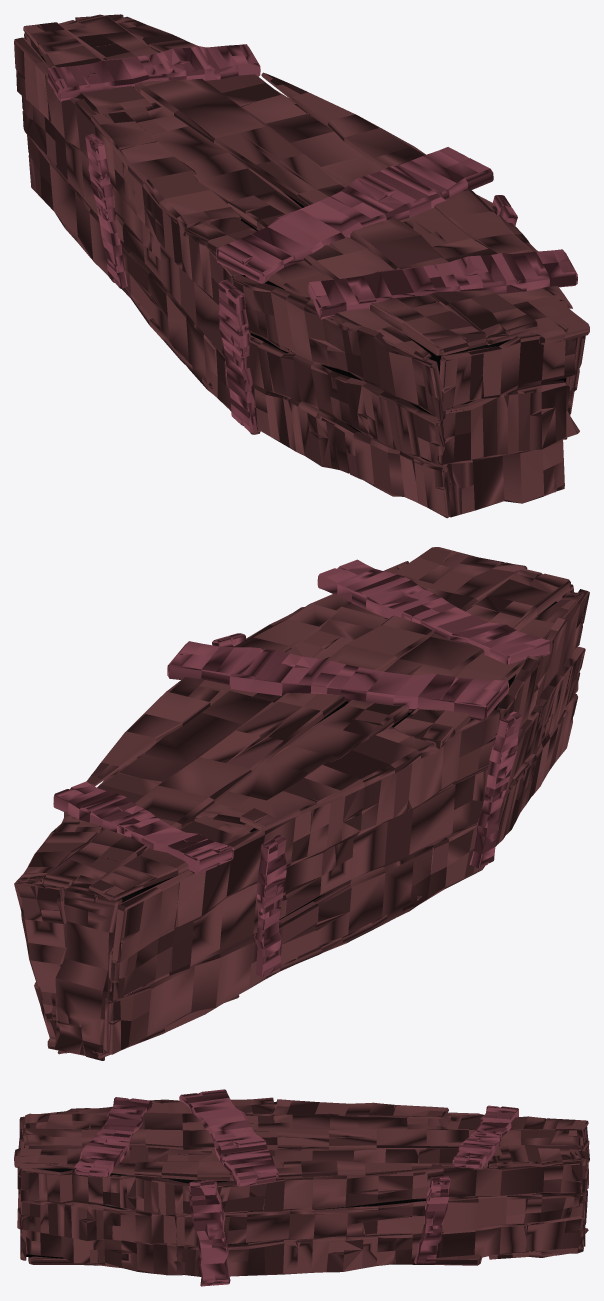
The model's file is CoffinAsset.fbx.
The picture shows the model from 3 angles, top to bottom: view 1: azimuth 30°, elevation 25°; view 2: azimuth 150°, elevation 25°; view 3: azimuth 270°, elevation 25°; orthographic projection. The views are drawn at different scales.
Visible parts, largest first — view 1: Coffin_2; view 2: Coffin_2; view 3: Coffin_2.
Boxes of the visible parts, bbox=[...] form: Coffin_2: bbox=[14, 14, 589, 518]; Coffin_2: bbox=[14, 547, 589, 1060]; Coffin_2: bbox=[14, 1089, 589, 1286].
Bounding box in the file's own units: 175 × 108 × 453.
